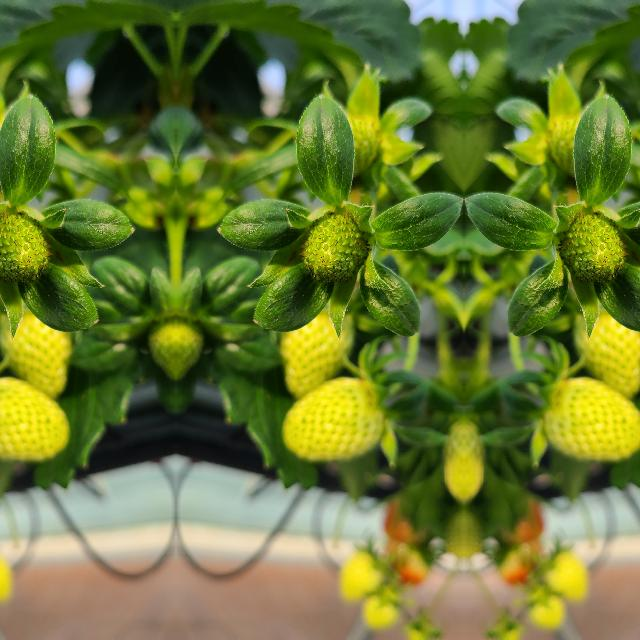Health_25: (276, 376, 390, 468), (536, 375, 640, 468), (278, 292, 359, 400), (566, 292, 640, 399), (0, 292, 71, 399), (0, 375, 74, 468), (302, 214, 366, 282), (560, 214, 624, 282), (0, 214, 48, 282)
